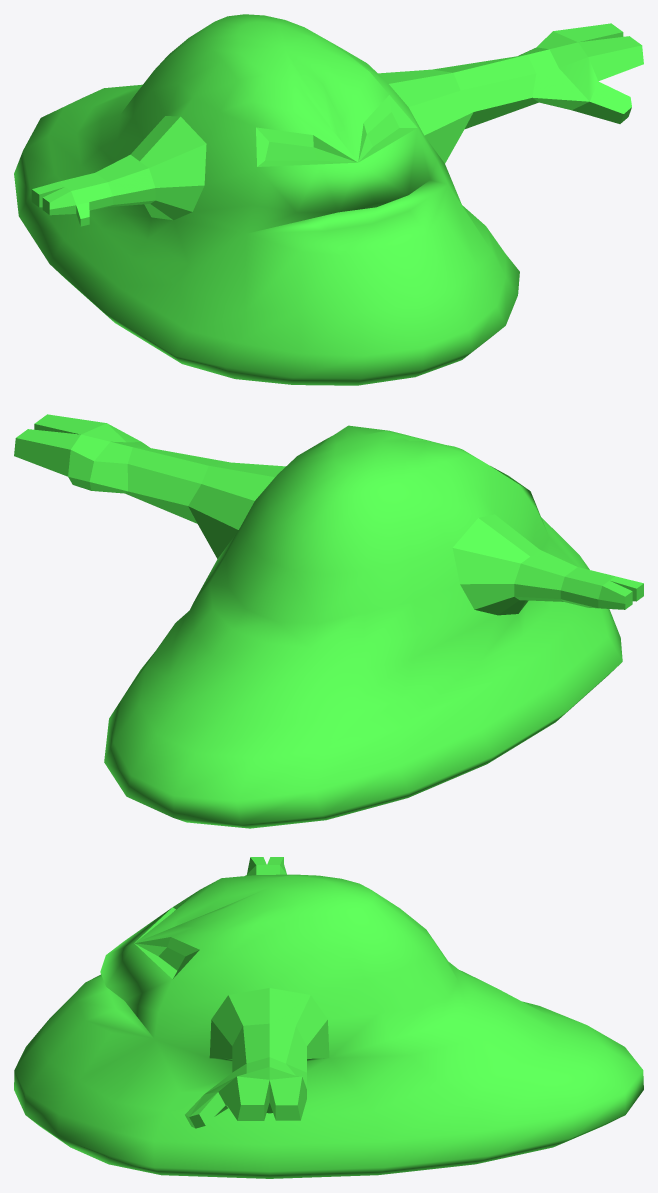
The model's file is EnemyBlobV1_defaultTpose.fbx.
The picture shows the model from 3 angles, top to bottom: view 1: azimuth 30°, elevation 25°; view 2: azimuth 150°, elevation 25°; view 3: azimuth 270°, elevation 25°; orthographic projection. The views are drawn at different scales.
Visible parts, largest first — view 1: BlobEnemy; view 2: BlobEnemy; view 3: BlobEnemy.
Boxes of the visible parts, x1,y1,x2,y2 form: BlobEnemy: [14, 14, 643, 385]; BlobEnemy: [14, 414, 643, 828]; BlobEnemy: [14, 857, 643, 1178].
Size of the model in its own units: 2.99 by 1.27 by 3.01.
